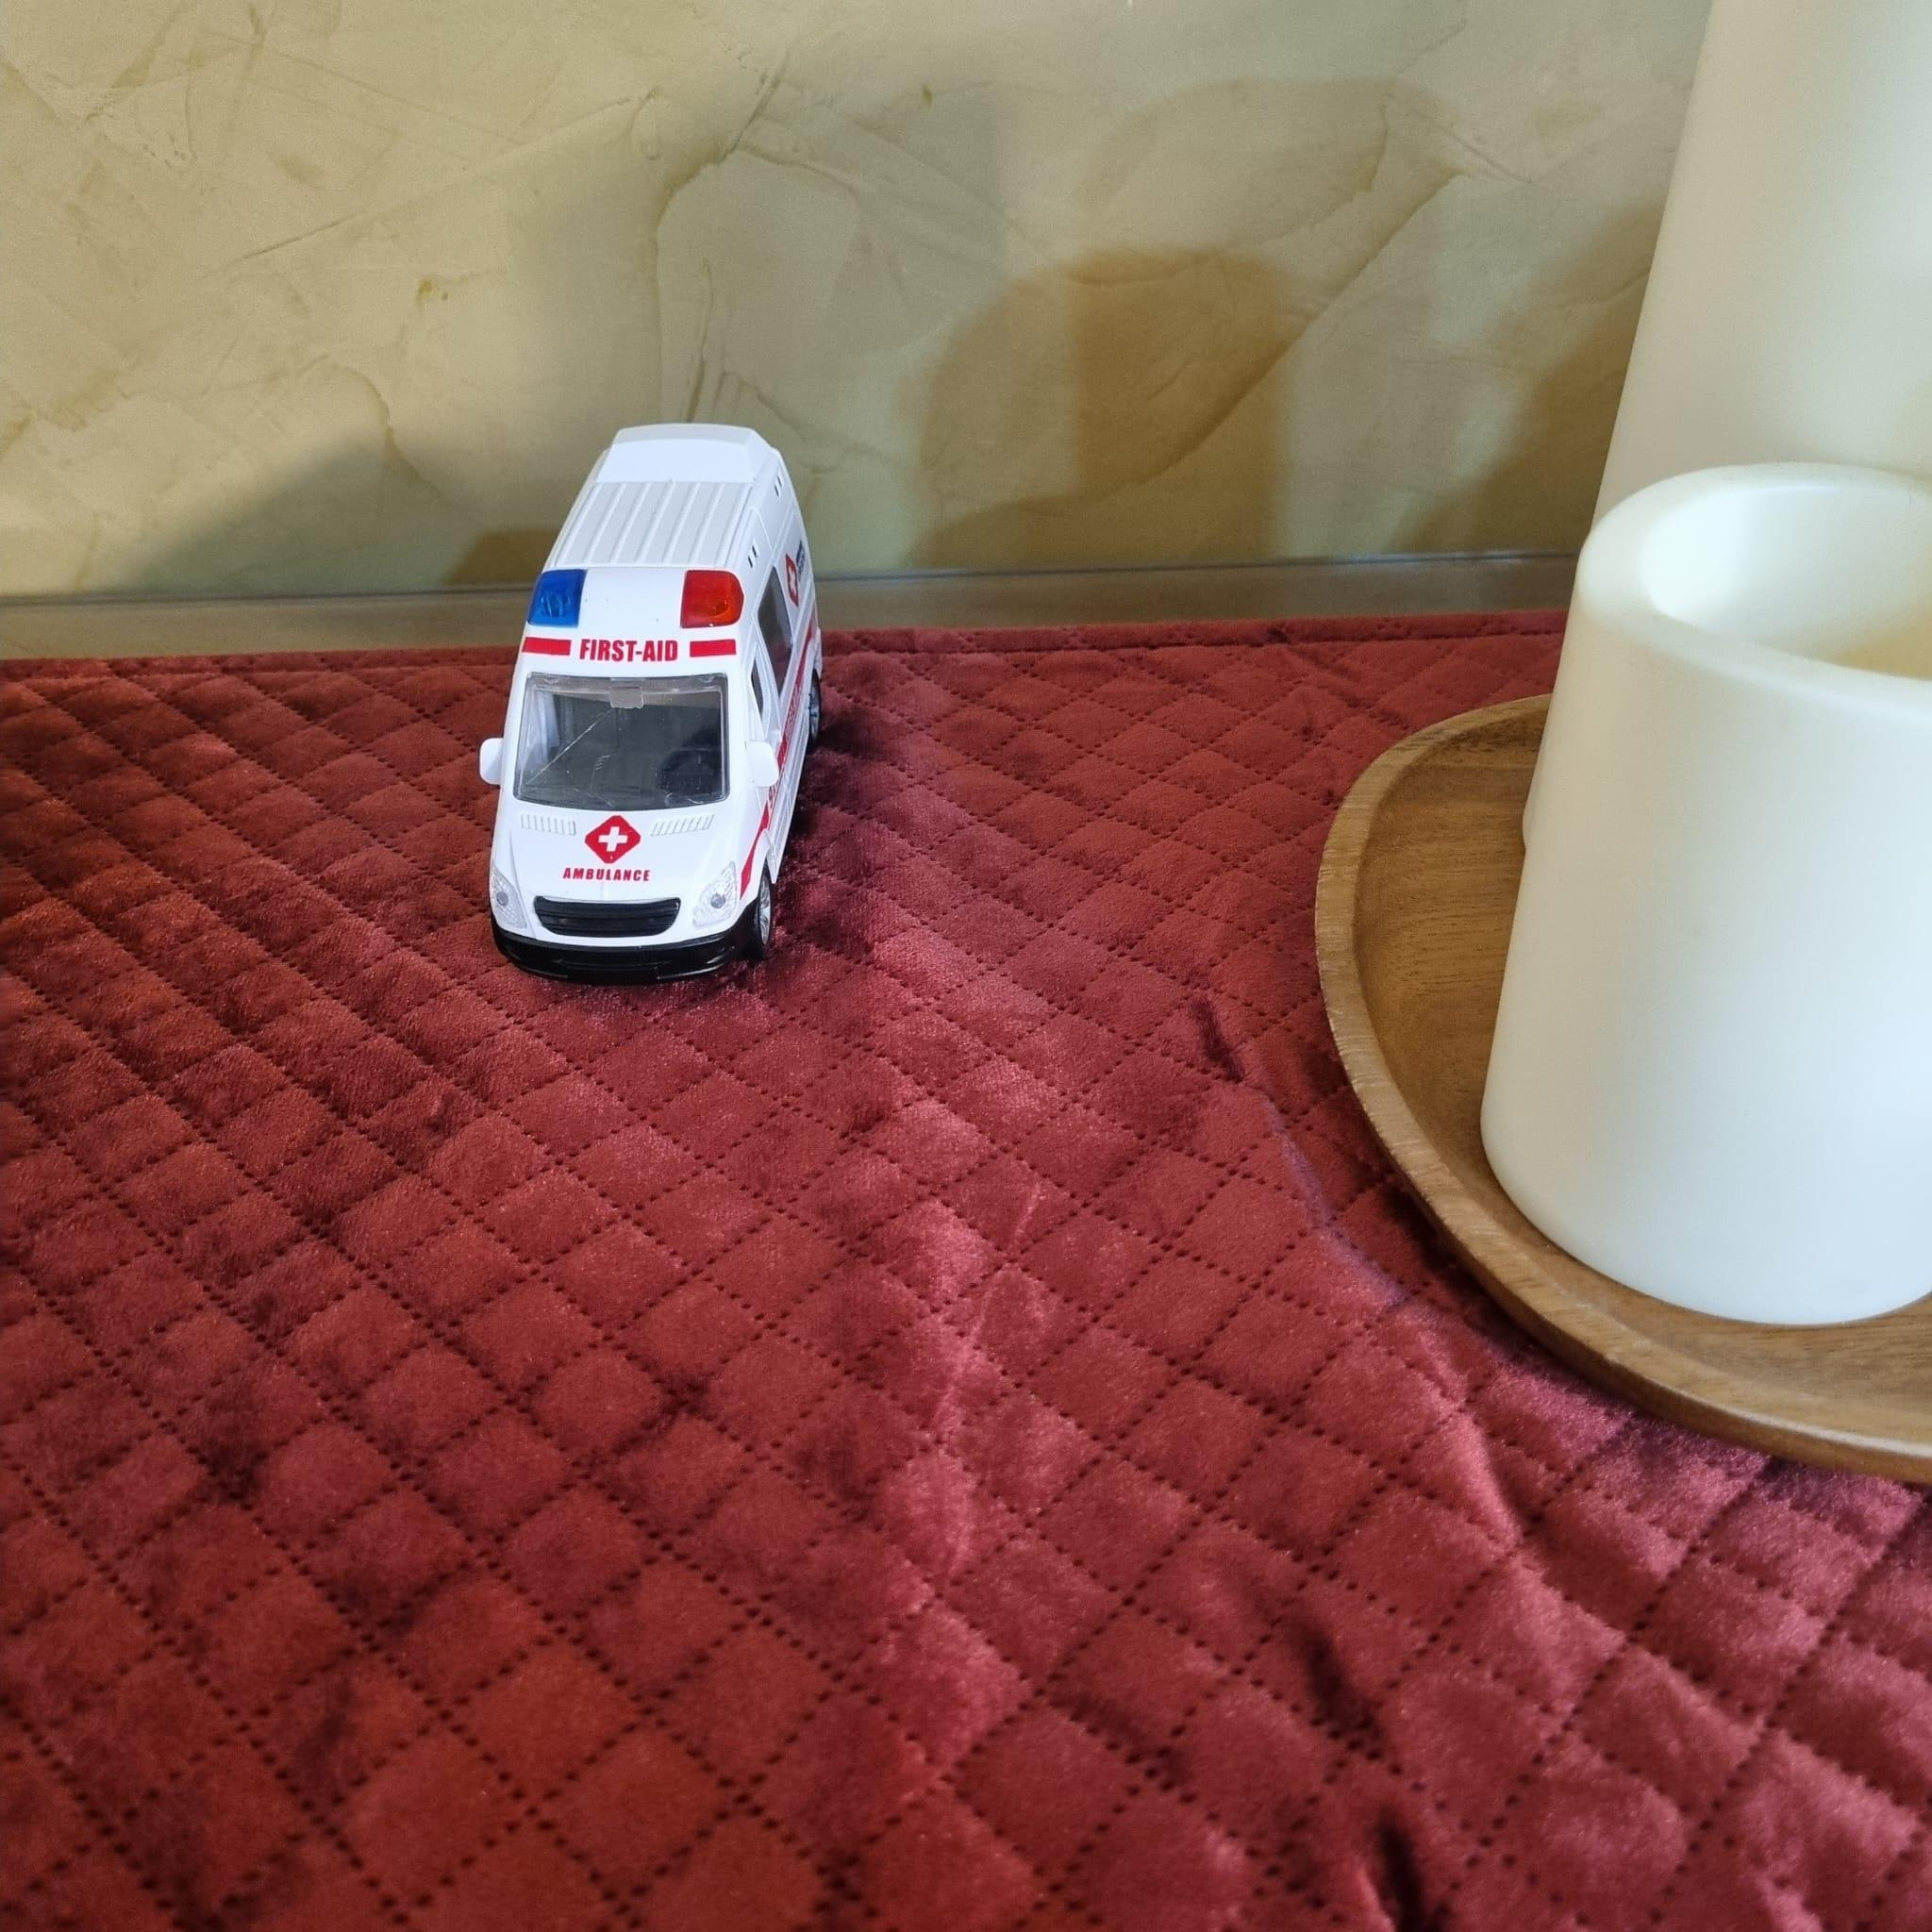ambulance_off: (478, 425, 837, 964)
